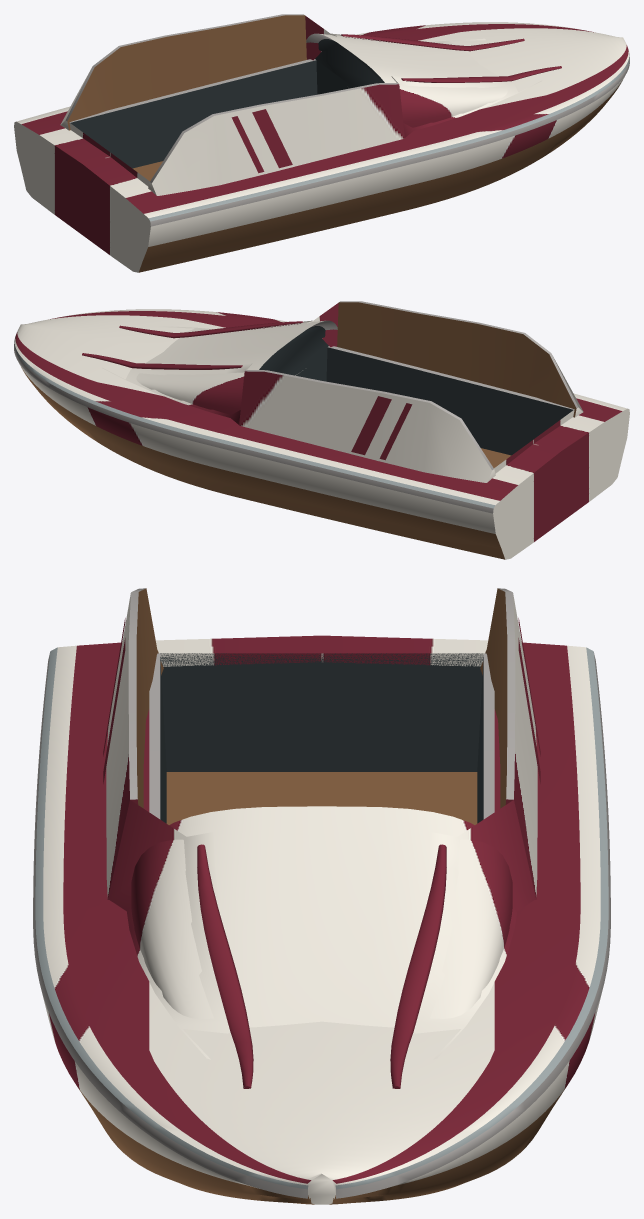
Rendered from Hull_11_R_舷窓・臙脂.glb.
3 renders of one model, top to bottom at view 1: azimuth 30°, elevation 25°; view 2: azimuth 150°, elevation 25°; view 3: azimuth 270°, elevation 25°, orthographic. The views are drawn at different scales.
Parts seen in each view (by area): view 1: Hull_11_R; view 2: Hull_11_R; view 3: Hull_11_R.
Boxes of the visible parts, left/top/right/bottom form: Hull_11_R: left=14, top=14, right=629, bottom=272; Hull_11_R: left=14, top=301, right=629, bottom=559; Hull_11_R: left=33, top=588, right=610, bottom=1204.
Size of the model in its own units: 2.9 by 0.6856 by 1.34.
Materials: 4 (4 with a texture image).
